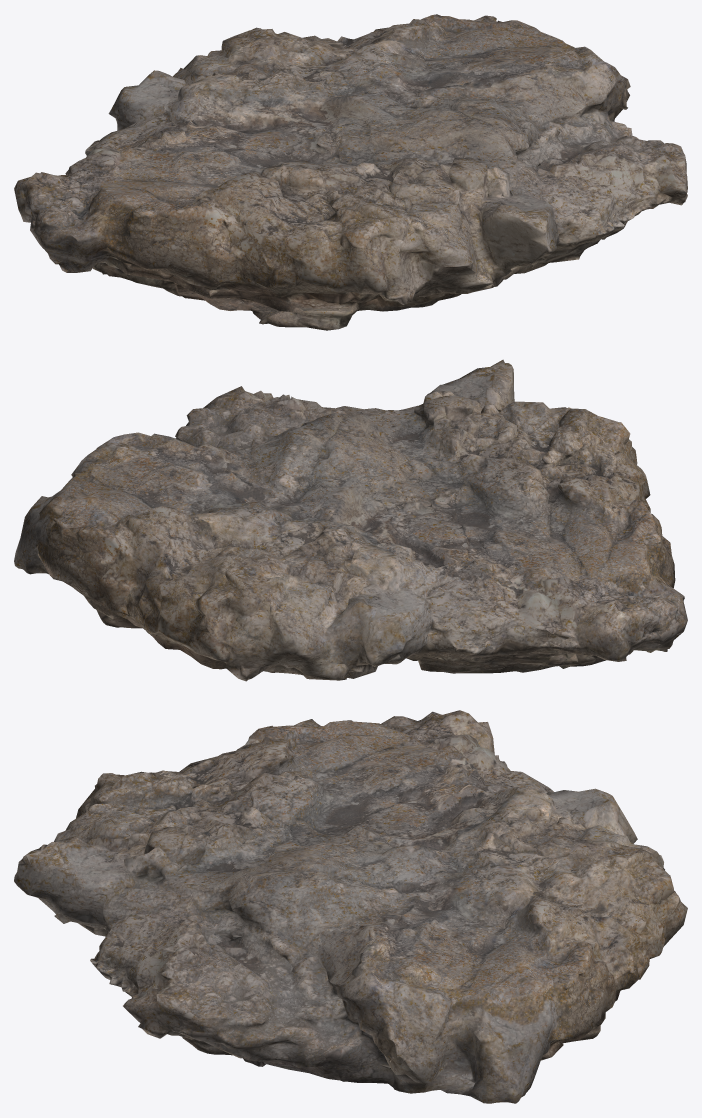
Rendered from SM_wfgkaez_tier_2.gltf.
3 renders of one model, top to bottom at view 1: azimuth 30°, elevation 25°; view 2: azimuth 150°, elevation 25°; view 3: azimuth 270°, elevation 25°, orthographic. The views are drawn at different scales.
Visible parts, largest first — view 1: SM_wfgkaez; view 2: SM_wfgkaez; view 3: SM_wfgkaez.
Part boxes in pixels (left/top/right/bottom): SM_wfgkaez: left=14, top=14, right=687, bottom=330; SM_wfgkaez: left=14, top=359, right=687, bottom=681; SM_wfgkaez: left=14, top=710, right=687, bottom=1103.
Bounding box in the file's own units: 8.45 × 1.53 × 7.49.
Materials: 1 (1 with a texture image).
